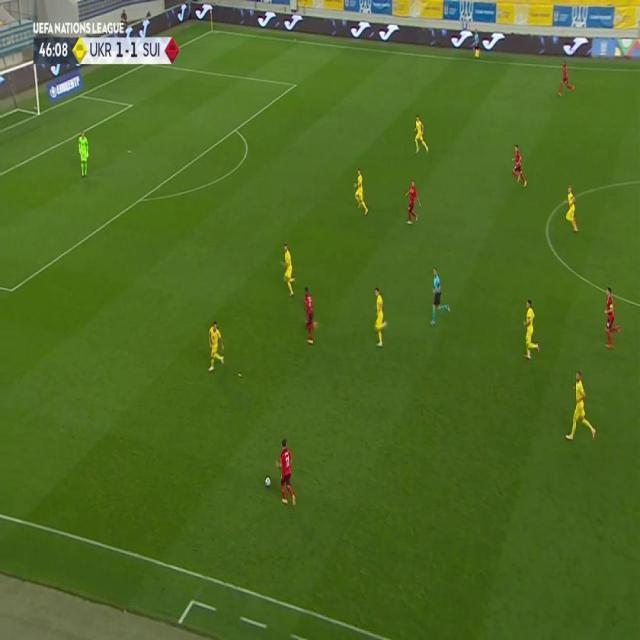ball: (264, 475, 272, 488)
goalkeeper: (77, 128, 90, 178)
player: (565, 371, 598, 446), (275, 437, 297, 508), (602, 285, 621, 351), (521, 298, 540, 360), (206, 319, 226, 374), (372, 286, 389, 348), (302, 285, 318, 347), (280, 241, 297, 298), (353, 168, 370, 215), (564, 183, 580, 232), (511, 144, 528, 188), (406, 179, 422, 225), (412, 114, 429, 155), (557, 60, 574, 99)
referee: (429, 267, 449, 329), (472, 30, 481, 60)
